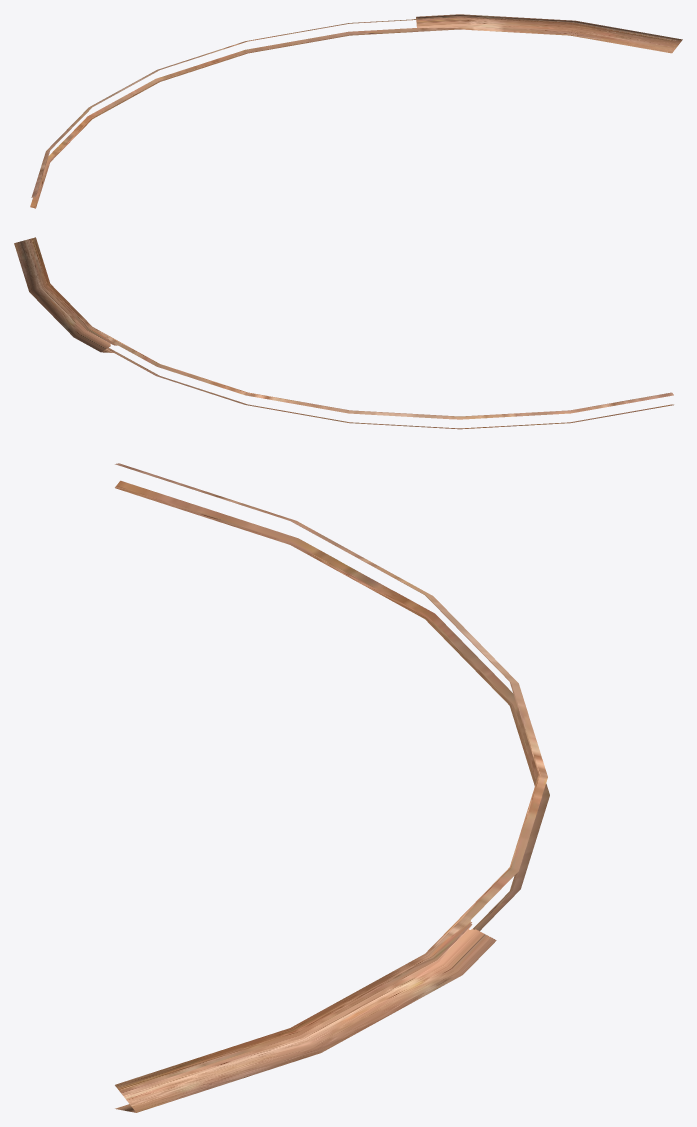
3 views of the same model, one above another, from view 1: azimuth 30°, elevation 25°; view 2: azimuth 150°, elevation 25°; view 3: azimuth 270°, elevation 25° (orthographic). The views are drawn at different scales.
Visible parts, largest first — view 1: SM_Block_Sandstone_LOD0; view 2: SM_Block_Sandstone_LOD0; view 3: SM_Block_Sandstone_LOD0.
Boxes of the visible parts, x1=… form: SM_Block_Sandstone_LOD0: x1=30, y1=14, x2=682, y2=208; SM_Block_Sandstone_LOD0: x1=14, y1=237, x2=673, y2=429; SM_Block_Sandstone_LOD0: x1=115, y1=463, x2=549, y2=1112.
Size of the model in its own units: 3.52 by 0.0602 by 1.07.
